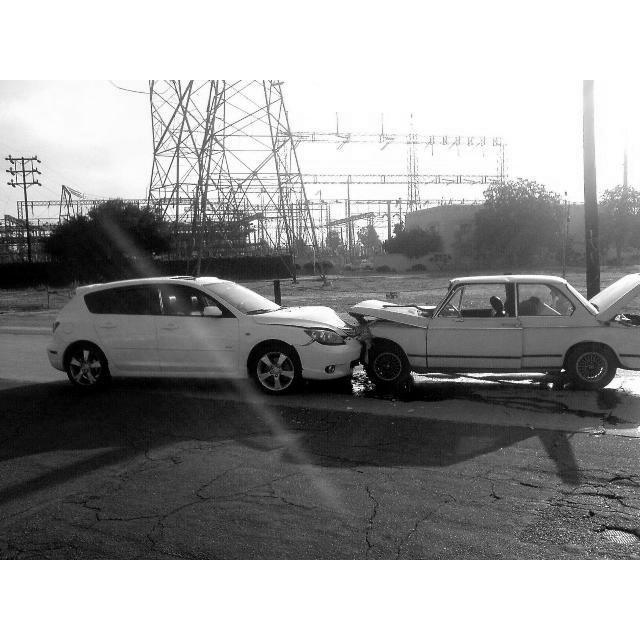bonnet-dent: (361, 292, 432, 326), (289, 305, 352, 336)
